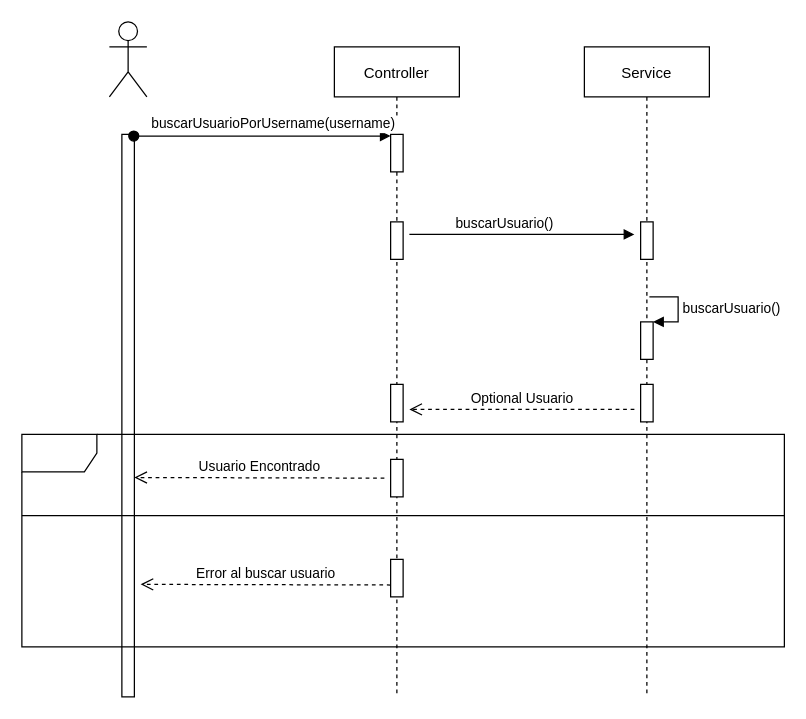
Some shapes in this 806 by 719 pixel diagram are drawn without their labels. The centre of each missing label's shape, as x and y in pixels:
alt(Usuario encontrado): the point at 402,540
Cliente: the point at 127,59
